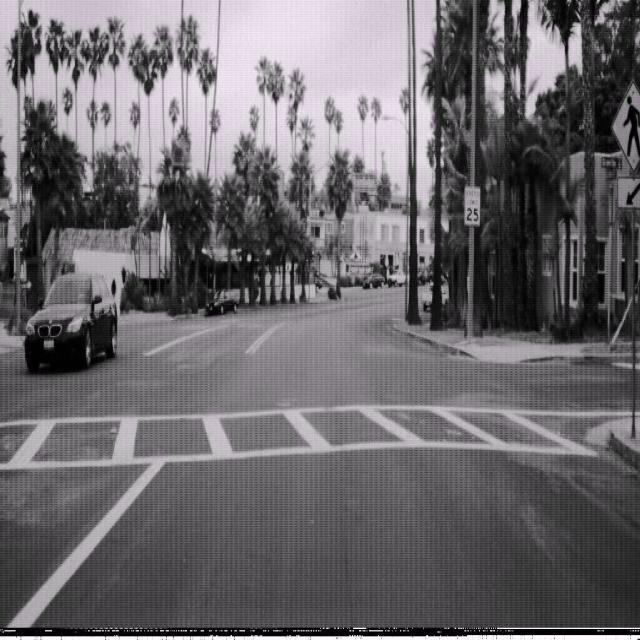speedLimit25: (463, 184, 481, 227)
